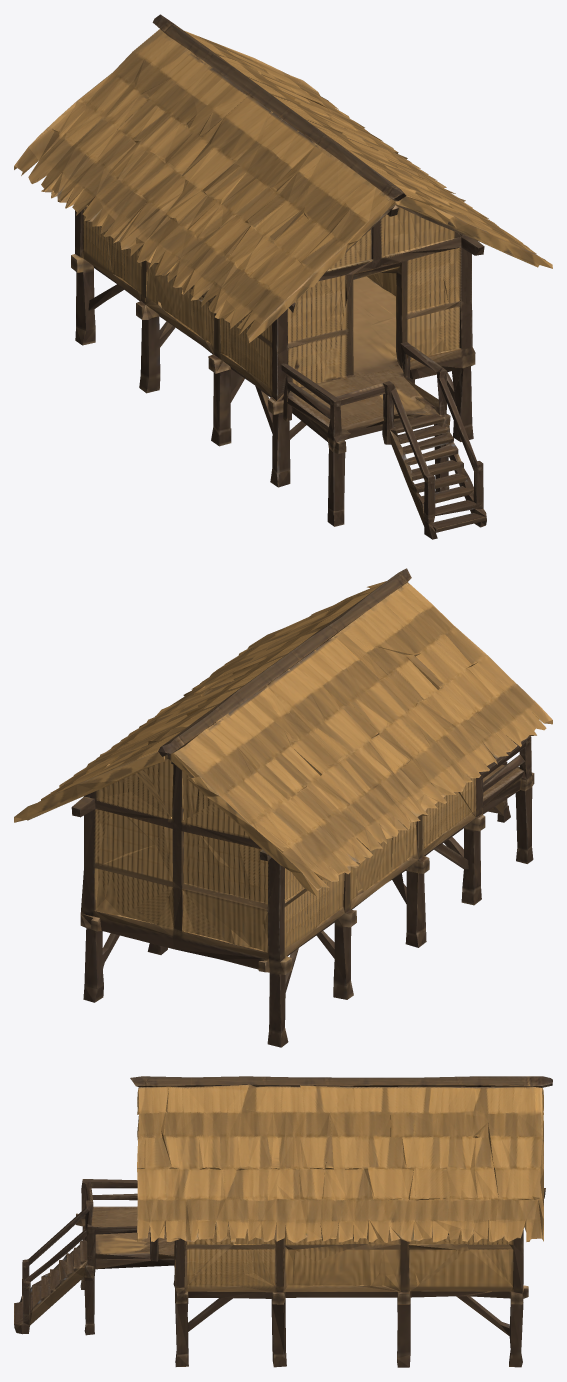
File: S4_village_house_b.glb
3 views of the same model, one above another, from view 1: azimuth 30°, elevation 25°; view 2: azimuth 150°, elevation 25°; view 3: azimuth 270°, elevation 25° (orthographic). The views are drawn at different scales.
Visible parts, largest first — view 1: Mesh_0; view 2: Mesh_0; view 3: Mesh_0.
Part boxes in pixels (x1=…): Mesh_0: x1=14, y1=14, x2=552, y2=539; Mesh_0: x1=14, y1=568, x2=552, y2=1047; Mesh_0: x1=14, y1=1076, x2=552, y2=1367.
Size of the model in its own units: 4.46 by 4 by 7.82.
Materials: 1 (1 with a texture image).
